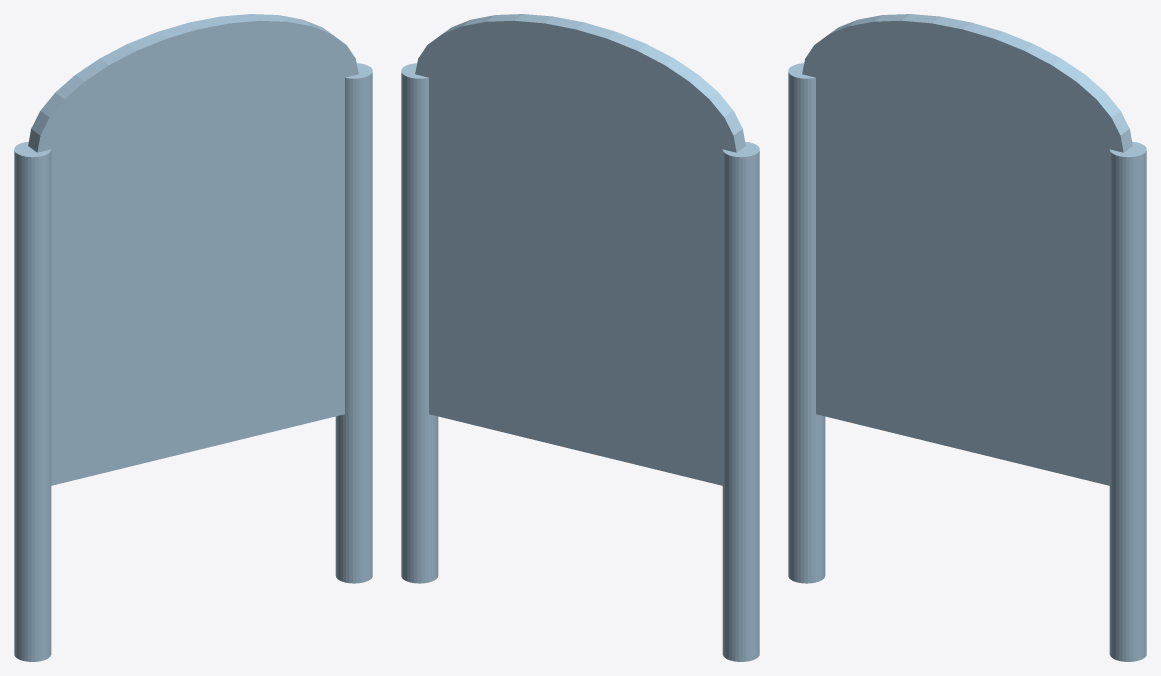
The model's file is Fillter.fbx.
3 renders of one model, left to right at view 1: azimuth 30°, elevation 25°; view 2: azimuth 150°, elevation 25°; view 3: azimuth 330°, elevation 25°, orthographic.
Visible parts, largest first — view 1: Cube; view 2: Cube; view 3: Cube.
Boxes of the visible parts, left/top/right/bottom form: Cube: left=14, top=14, right=372, bottom=661; Cube: left=401, top=14, right=759, bottom=661; Cube: left=788, top=14, right=1146, bottom=661.
Bounding box in the file's own units: 4.4 × 7 × 0.4.
